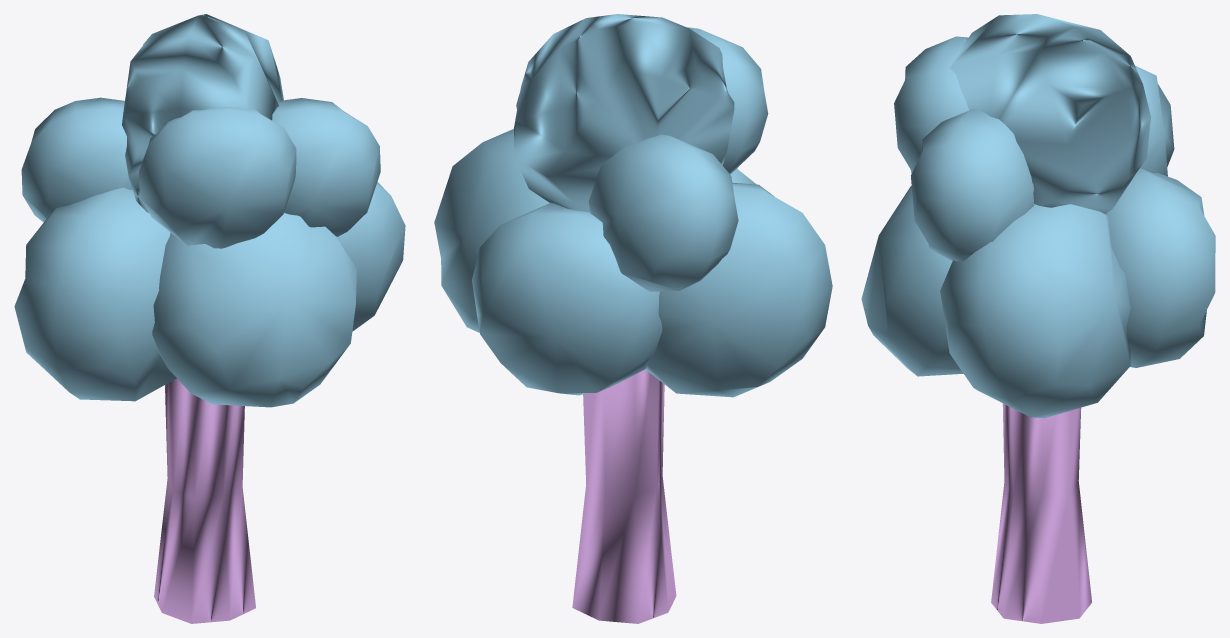
Rendered from Furniture_TREE_00 dummy.FBX.
The picture shows the model from 3 angles, left to right: view 1: azimuth 30°, elevation 25°; view 2: azimuth 150°, elevation 25°; view 3: azimuth 270°, elevation 25°; orthographic projection.
Parts seen in each view (by area): view 1: Dummy_TREE; view 2: Dummy_TREE; view 3: Dummy_TREE.
Boxes of the visible parts, x1,y1,x2,y2 form: Dummy_TREE: (14,14,405,623); Dummy_TREE: (434,14,832,623); Dummy_TREE: (861,14,1215,623).
Bounding box in the file's own units: 116 × 177 × 97.83.
